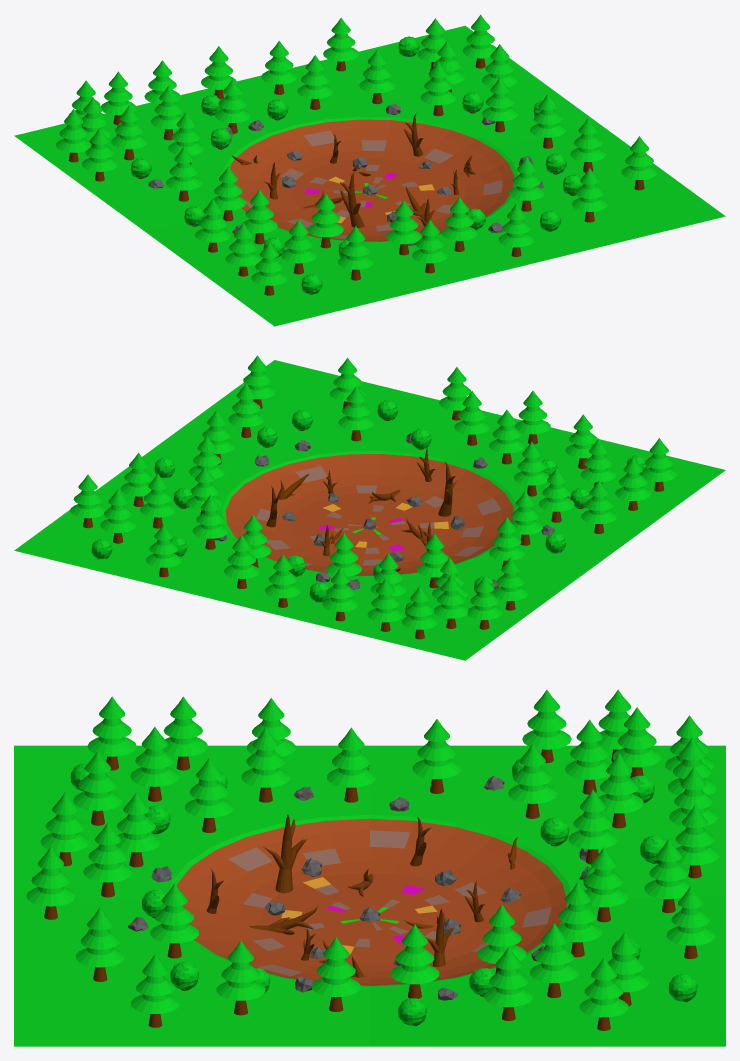
Rendered from WildArena.fbx.
The picture shows the model from 3 angles, top to bottom: view 1: azimuth 30°, elevation 25°; view 2: azimuth 150°, elevation 25°; view 3: azimuth 270°, elevation 25°; orthographic projection. The views are drawn at different scales.
Visible parts, largest first — view 1: ArenaWild, Tree.018, Tree.022, Tree.023, Tree.010, Tree.016, Tree.021, Tree.039, Tree.006, Tree.013, Tree.014, Tree.002 (+28 smaller); view 2: ArenaWild, Tree.020, Tree.022, Tree.002, Tree.014, Tree.024, Tree.028, Tree.015, Tree.001, Tree.021, Tree.031, Tree.007 (+28 smaller); view 3: ArenaWild, Tree.006, Tree.012, Tree.020, Tree.018, Tree.002, Tree.008, Tree.022, Tree.021, Tree.024, Tree.015, Tree.019 (+35 smaller).
Part boxes in pixels (bbox=[...]): ArenaWild: bbox=[14, 25, 725, 326]; Tree.018: bbox=[166, 147, 201, 201]; Tree.022: bbox=[508, 156, 544, 211]; Tree.023: bbox=[530, 94, 565, 148]; Tree.010: bbox=[111, 105, 147, 160]; Tree.016: bbox=[297, 55, 333, 109]; Tree.021: bbox=[308, 193, 343, 248]; Tree.039: bbox=[482, 77, 517, 132]; Tree.006: bbox=[281, 219, 316, 274]; Tree.013: bbox=[420, 61, 456, 116]; Tree.014: bbox=[359, 49, 395, 104]; Tree.002: bbox=[441, 197, 477, 251]; ArenaWild: bbox=[14, 360, 725, 660]; Tree.020: bbox=[538, 468, 574, 522]; Tree.022: bbox=[338, 386, 374, 441]; Tree.002: bbox=[454, 391, 489, 445]; Tree.014: bbox=[192, 495, 228, 549]; Tree.024: bbox=[228, 383, 264, 438]; Tree.028: bbox=[100, 489, 135, 543]; Tree.015: bbox=[140, 473, 175, 528]; Tree.001: bbox=[489, 409, 524, 464]; Tree.021: bbox=[513, 441, 549, 496]; Tree.031: bbox=[224, 535, 259, 588]; Tree.007: bbox=[641, 438, 677, 491]; ArenaWild: bbox=[14, 745, 725, 1046]; Tree.006: bbox=[130, 727, 179, 801]; Tree.012: bbox=[508, 744, 557, 818]; Tree.020: bbox=[241, 727, 290, 802]; Tree.018: bbox=[412, 719, 461, 793]; Tree.002: bbox=[83, 822, 132, 897]; Tree.008: bbox=[73, 751, 122, 825]; Tree.022: bbox=[150, 883, 199, 958]; Tree.021: bbox=[185, 758, 233, 832]; Tree.024: bbox=[216, 940, 265, 1015]; Tree.015: bbox=[530, 923, 578, 998]; Tree.019: bbox=[327, 727, 375, 802].
Bounding box in the file's own units: 30030 × 5061 × 30030.
